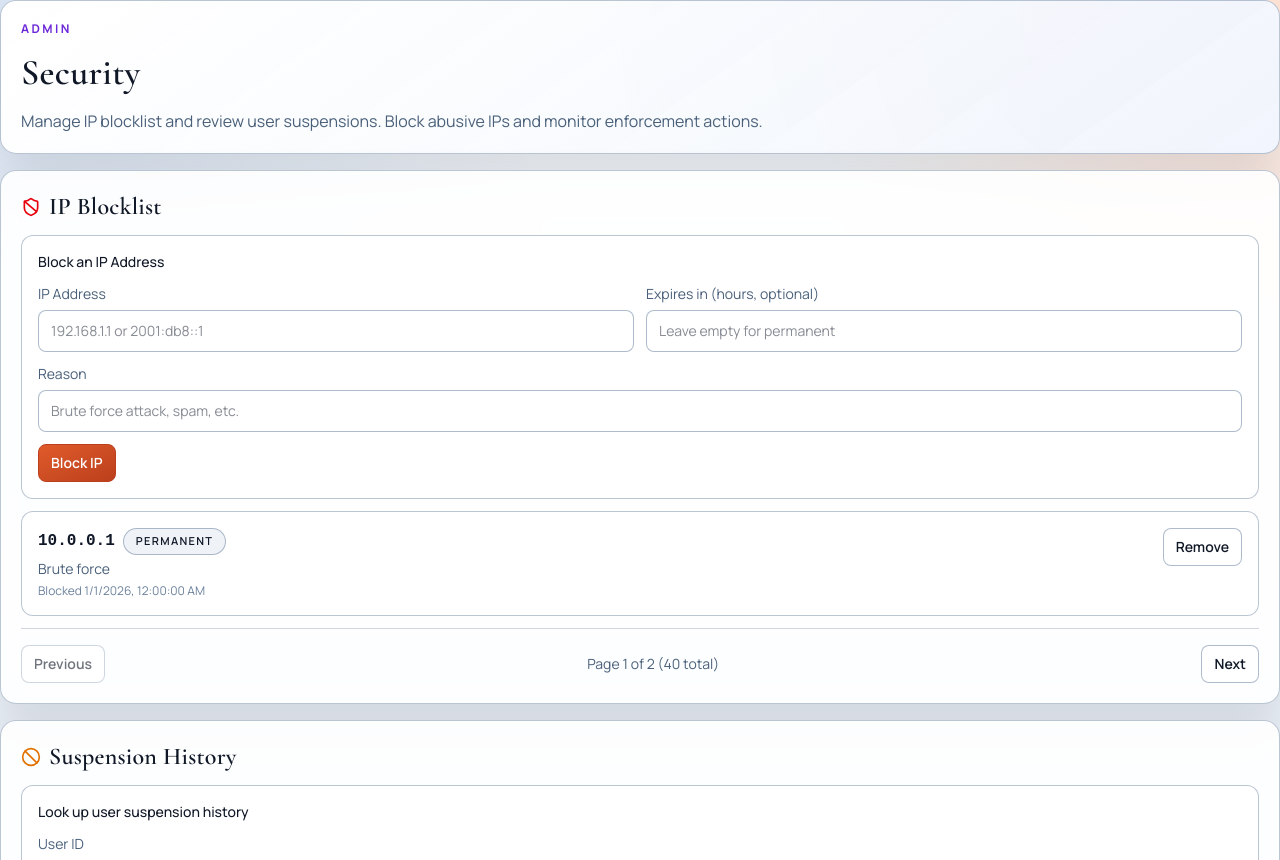
AdminSecurityPage › advances to next page on Next click and disables Next on last page
The image size is (1280, 860).
Expected: the text "10.0.0.1" is shown, 38,529 -> 115,553
Click the button "Next". click: (1230, 664)
box: 1202,644 -> 1259,682
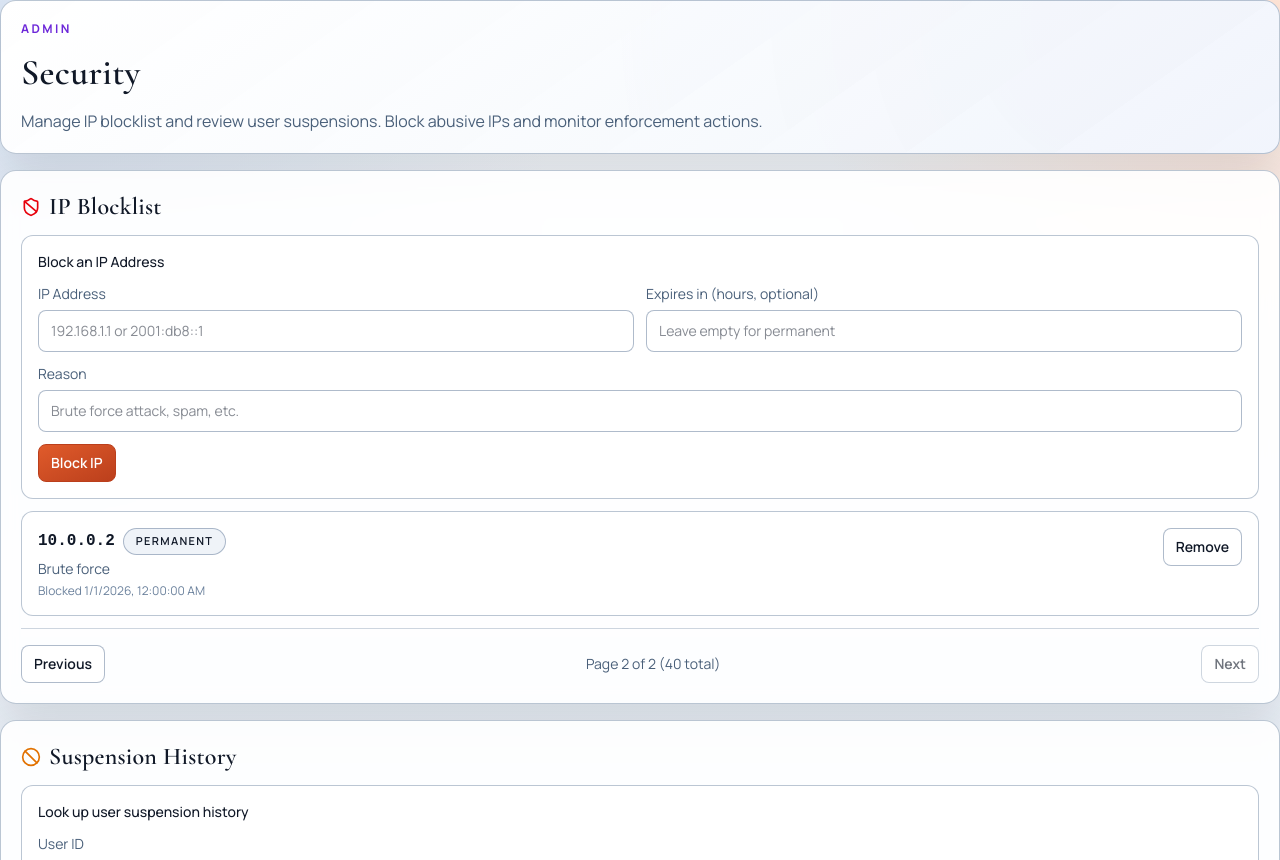
Expected: the text "10.0.0.2" is shown, 38,529 -> 115,553
Expected: the text "Page 2 of 2 (40 total)" is shown, 586,654 -> 720,674
Expected: the button "Next" is disabled, 1202,644 -> 1259,682
